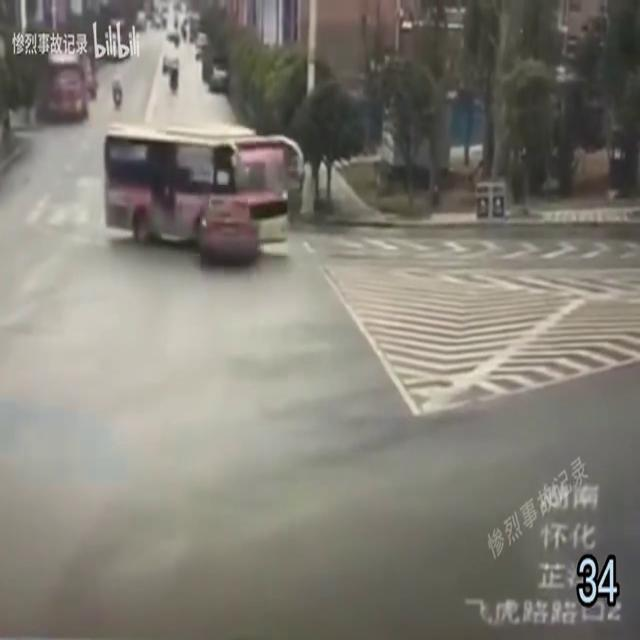multiple_accident: (73, 95, 338, 290)
